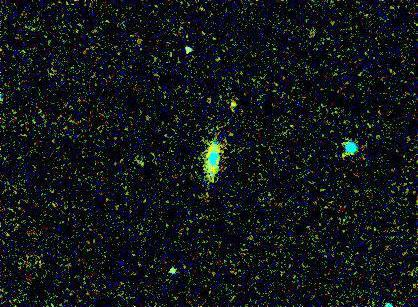star: (220, 92, 250, 122)
